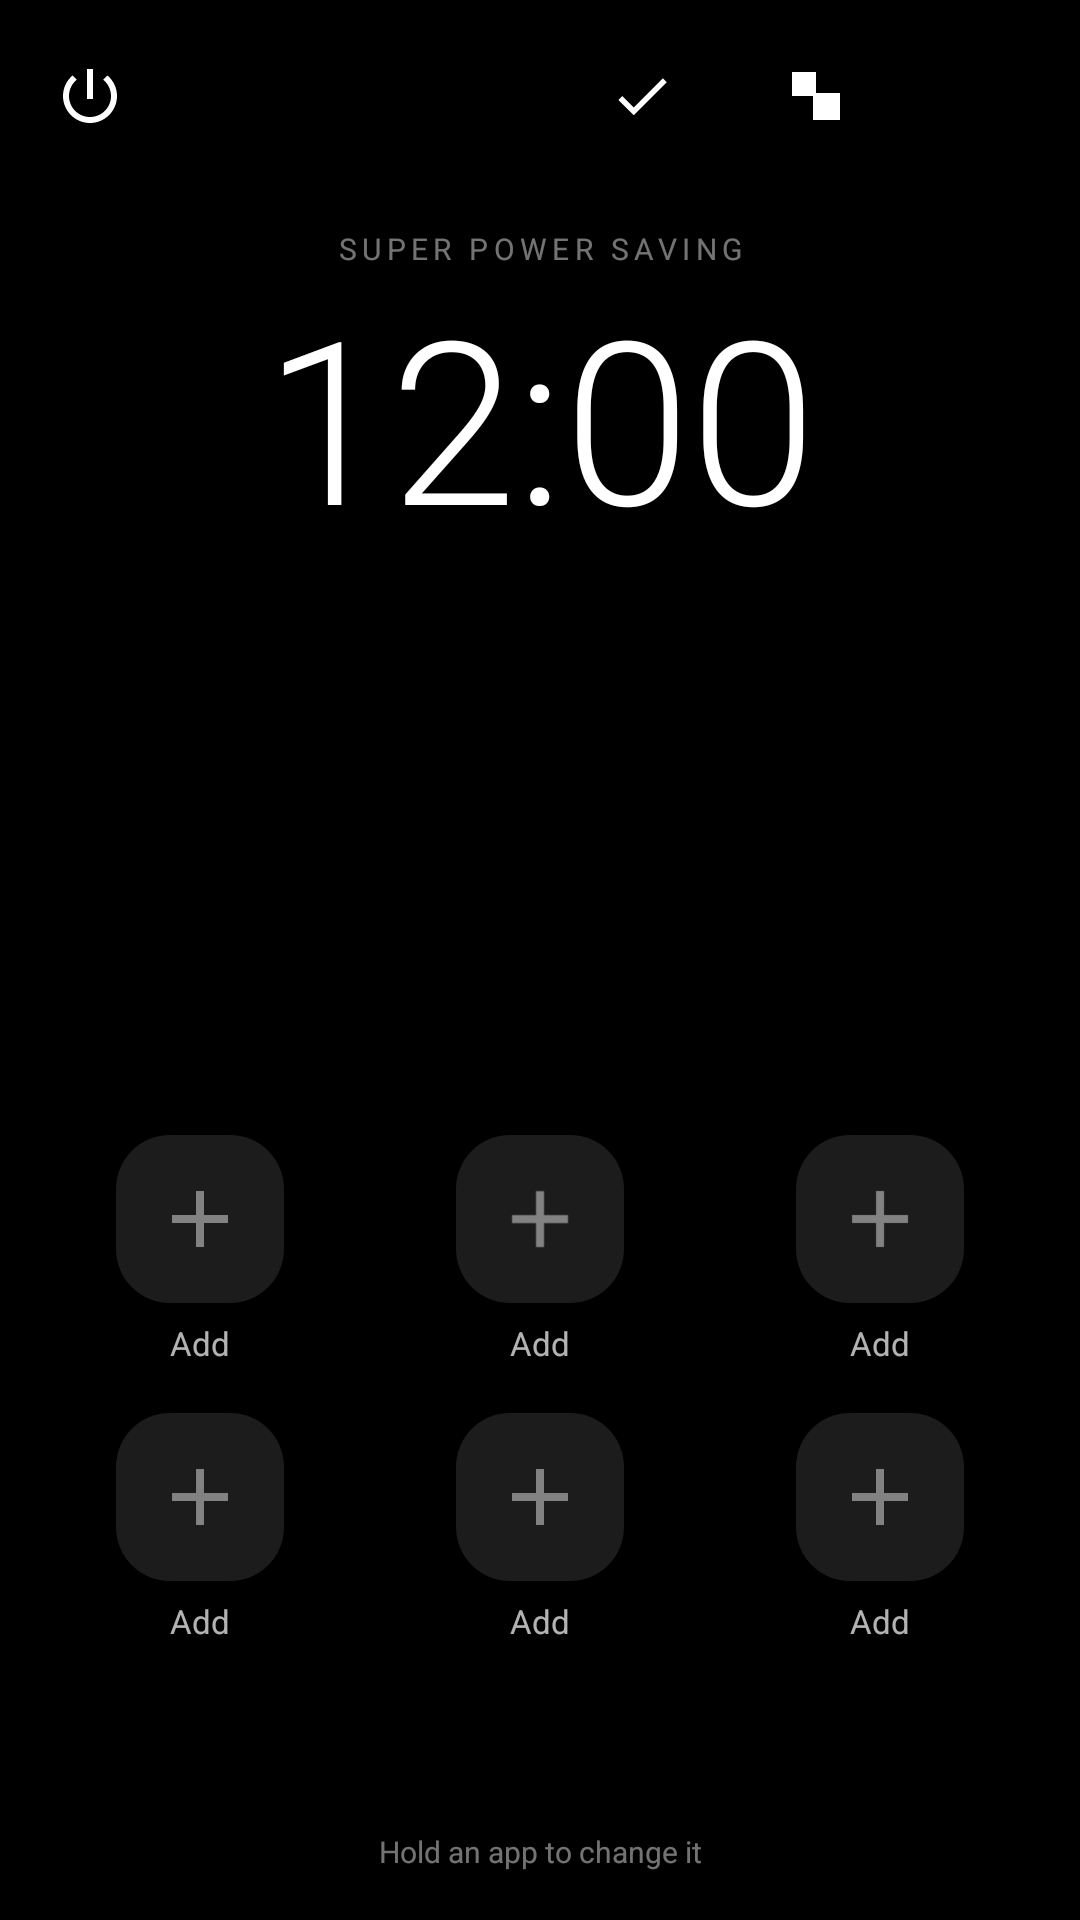

Screen size 1080px x 1920px. Icon name, then its box in pixels as (x1, y1, x2, y2):
plus: (172, 1191, 228, 1247), (512, 1191, 568, 1247), (852, 1191, 908, 1247), (172, 1469, 228, 1525), (512, 1469, 568, 1525), (852, 1469, 908, 1525)
Turn off: (63, 69, 117, 123)
